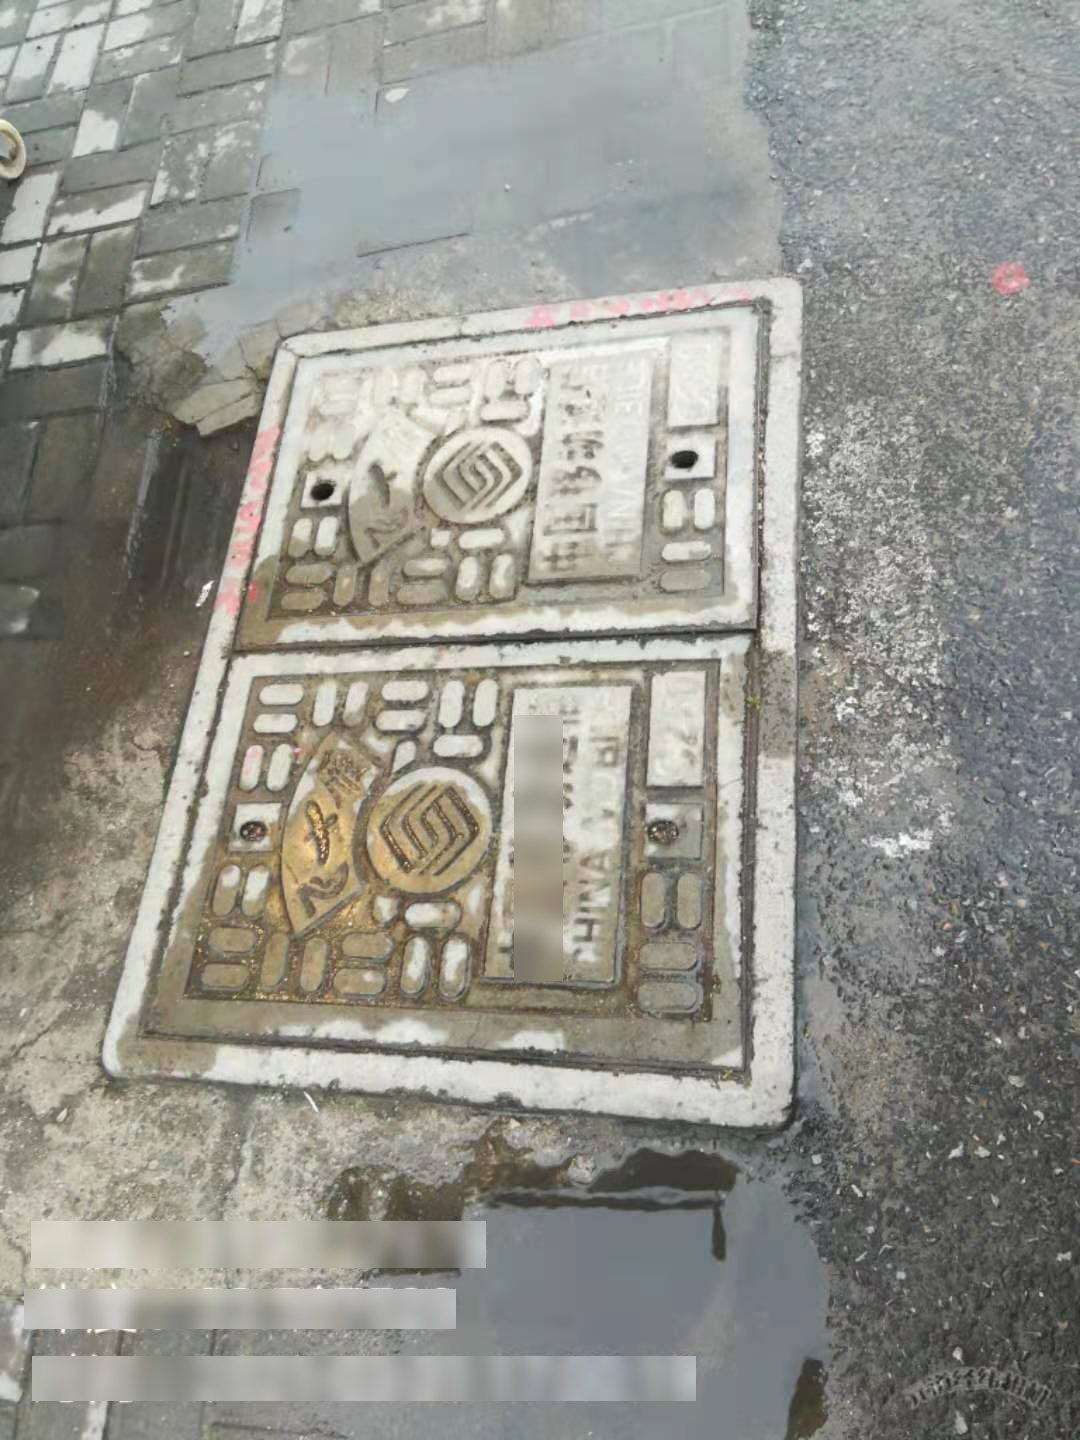good: (98, 276, 805, 1134)
